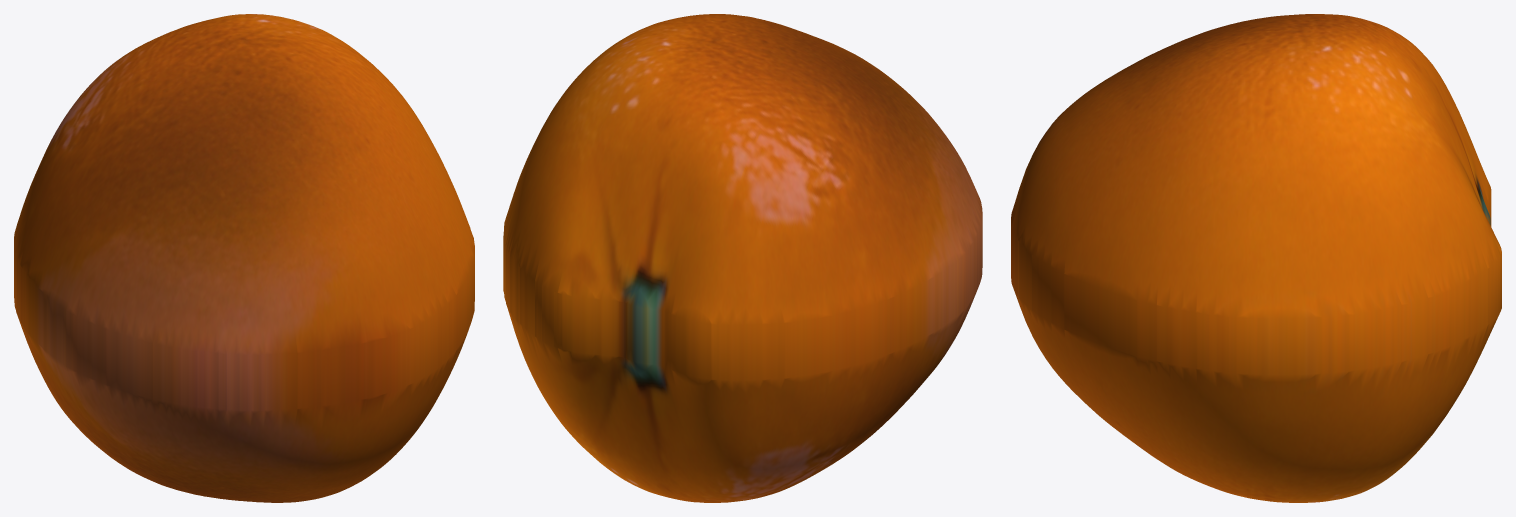
File: orange_8.obj
3 views of the same model, side by side, from view 1: azimuth 30°, elevation 25°; view 2: azimuth 150°, elevation 25°; view 3: azimuth 270°, elevation 25° (orthographic).
Visible parts, largest first — view 1: Grid; view 2: Grid; view 3: Grid.
Boxes of the visible parts, x1,y1,x2,y2 form: Grid: (14,14,474,502); Grid: (503,14,982,502); Grid: (1011,14,1501,502).
Bounding box in the file's own units: 1.51 × 1.6 × 1.6.
1 material, 1 textured.
